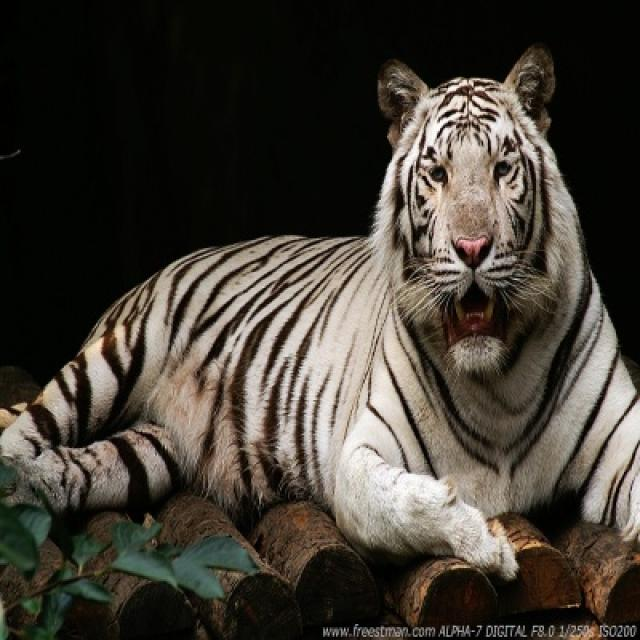Tiger: (3, 48, 638, 573)
